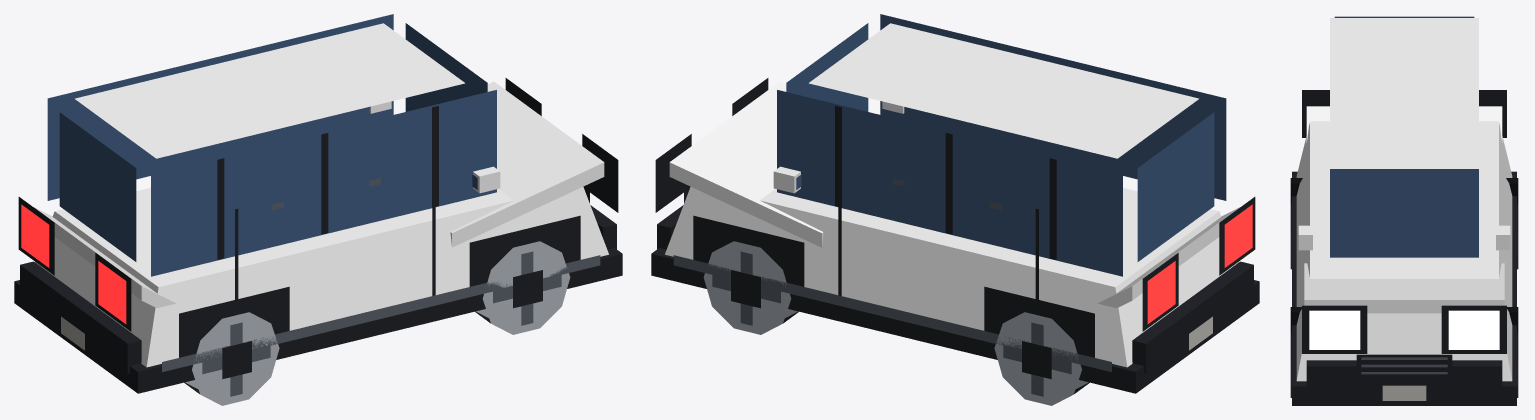
File: van.glb
3 views of the same model, side by side, from view 1: azimuth 30°, elevation 25°; view 2: azimuth 150°, elevation 25°; view 3: azimuth 270°, elevation 25° (orthographic). The views are drawn at different scales.
Visible parts, largest first — view 1: van; view 2: van; view 3: van.
Boxes of the visible parts, x1,y1,x2,y2 form: van: (14, 14, 622, 405); van: (651, 14, 1259, 405); van: (1290, 16, 1518, 405).
Size of the model in its own units: 0.4261 by 0.2005 by 0.1924.
